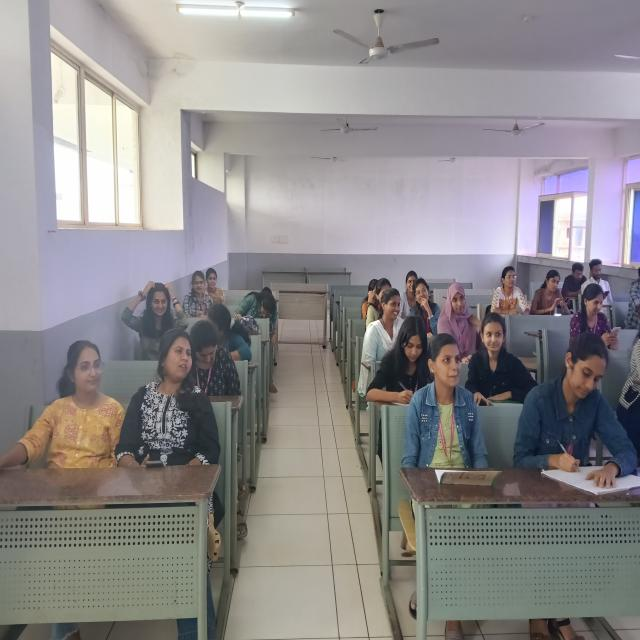Using Phone: (566, 274, 628, 341), (528, 268, 586, 329), (572, 243, 624, 307)
Writing: (529, 343, 640, 502), (362, 305, 452, 408)
